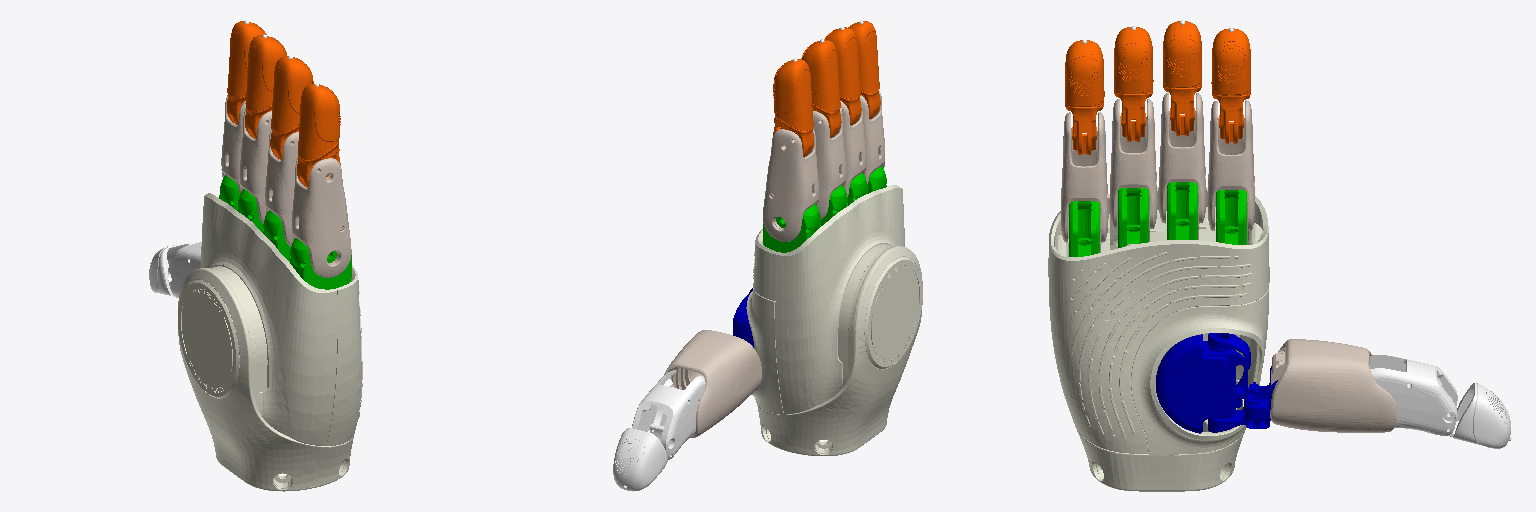
URDF robot description (omnihand):
<?xml version="1.0" ?>
<!-- =================================================================================== -->
<!-- |    This document was autogenerated by xacro from omnihand_right.xacro           | -->
<!-- |    EDITING THIS FILE BY HAND IS NOT RECOMMENDED                                 | -->
<!-- =================================================================================== -->
<robot name="omnihand">
  <!-- joint position value -->
  <material name="black">
    <color rgba="0.0 0.0 0.0 1.0"/>
  </material>
  <material name="blue">
    <color rgba="0.0 0.0 0.8 1.0"/>
  </material>
  <material name="green">
    <color rgba="0.0 0.8 0.0 1.0"/>
  </material>
  <material name="grey">
    <color rgba="0.2 0.2 0.2 1.0"/>
  </material>
  <material name="silver">
    <color rgba="0.9137254901960784 0.9137254901960784 0.8470588235294118 1.0"/>
  </material>
  <material name="orange">
    <color rgba="1.0 0.4235294117647059 0.0392156862745098 1.0"/>
  </material>
  <material name="brown">
    <color rgba="0.8705882352941177 0.8117647058823529 0.7647058823529411 1.0"/>
  </material>
  <material name="red">
    <color rgba="0.8 0.0 0.0 1.0"/>
  </material>
  <material name="white">
    <color rgba="1.0 1.0 1.0 1.0"/>
  </material>
  <link name="base_link">
    <visual>
      <origin rpy="0.0 0.0 0.0" xyz="0.0 0.0 0.0"/>
      <geometry>
        <box size="0.001 0.001 0.001"/>
      </geometry>
    </visual>
  </link>
  <joint name="R_palm_joint" type="fixed">
    <origin rpy="0.0 0.0 0.0" xyz="0.0 0.0 0.0"/>
    <parent link="base_link"/>
    <child link="R_palm"/>
  </joint>
  <link name="R_palm">
    <visual>
      <origin rpy="0 0 0" xyz="0 0 0"/>
      <geometry>
        <mesh filename="package://omnihand_description/meshes/r_palm.STL"/>
      </geometry>
      <material name="silver"/>
    </visual>
    <collision>
      <origin rpy="0 0 0" xyz="0 0 0.00725"/>
      <geometry>
        <cylinder length="0.0145" radius="0.028"/>
      </geometry>
    </collision>
    <collision>
      <origin rpy="0 0 0" xyz="0 0 0.057"/>
      <geometry>
        <box size="0.04 0.082 0.085"/>
      </geometry>
    </collision>
    <inertial>
      <origin rpy="0 0 0" xyz="-0.0071151 0.0044599 0.0455754"/>
      <mass value="0.2175"/>
      <inertia ixx="0.00023334" ixy="4.25e-06" ixz="-2.03e-05" iyy="0.00020584" iyz="9.89e-06" izz="0.00012494"/>
    </inertial>
  </link>
  <!-- thumb  -->
  <joint name="R_thumb_roll_joint" type="revolute">
    <origin rpy="0 0 0" xyz="0 0.018529 0.046851"/>
    <parent link="R_palm"/>
    <child link="R_thumb_roll"/>
    <axis xyz="1 0 0"/>
    <limit effort="0.419" lower="-0.17453292519943295" upper="0.8726646259971648" velocity="0.164"/>
  </joint>
  <link name="R_thumb_roll">
    <visual>
      <origin rpy="0 0 0" xyz="0 0 0"/>
      <geometry>
        <mesh filename="package://omnihand_description/meshes/r_thumb_roll.STL"/>
      </geometry>
      <material name="blue"/>
    </visual>
    <inertial>
      <origin rpy="0 0 0" xyz="0.018588 -0.0062386 0.0002106"/>
      <mass value="0.0179"/>
      <inertia ixx="3.64e-06" ixy="-5e-08" ixz="7e-08" iyy="2.68e-06" iyz="6e-08" izz="1.76e-06"/>
    </inertial>
  </link>
  <joint name="R_thumb_abad_joint" type="revolute">
    <origin rpy="0 0 0" xyz="0.020033 0.004292 0.00075"/>
    <parent link="R_thumb_roll"/>
    <child link="R_thumb_abad"/>
    <axis xyz="0 0 1"/>
    <limit effort="0.314" lower="-1.7453292519943295" upper="0" velocity="0.164"/>
  </joint>
  <link name="R_thumb_abad">
    <visual>
      <origin rpy="0 0 0" xyz="0 0 0"/>
      <geometry>
        <mesh filename="package://omnihand_description/meshes/thumb_abad.STL"/>
      </geometry>
      <material name="blue"/>
    </visual>
    <inertial>
      <origin rpy="0 0 0" xyz="0.0 0.0120925 -0.0060829"/>
      <mass value="0.0061"/>
      <inertia ixx="1.21e-06" ixy="0.0" ixz="-1e-08" iyy="9.8e-07" iyz="-3e-08" izz="6e-07"/>
    </inertial>
  </link>
  <joint name="R_thumb_mcp_joint" type="revolute">
    <origin rpy="0 0 0" xyz="0 0.0265 -0.0058001"/>
    <parent link="R_thumb_abad"/>
    <child link="R_thumb_mcp"/>
    <axis xyz="1 0 0"/>
    <limit effort="1.764" lower="0" upper="0.8552113334772214" velocity="0.308"/>
  </joint>
  <link name="R_thumb_mcp">
    <visual>
      <origin rpy="0 0 0" xyz="0 0 0"/>
      <geometry>
        <mesh filename="package://omnihand_description/meshes/thumb_mcp.STL"/>
      </geometry>
      <material name="brown"/>
    </visual>
    <collision>
      <origin rpy="0 0 0" xyz="0 0.0065 0.00237"/>
      <geometry>
        <box size="0.029 0.042 0.0325"/>
      </geometry>
    </collision>
    <inertial>
      <origin rpy="0 0 0" xyz="-1.45e-05 0.019045 0.0020161"/>
      <mass value="0.045"/>
      <inertia ixx="1.149e-05" ixy="0.0" ixz="1e-08" iyy="5.16e-06" iyz="-5.3e-07" izz="1.049e-05"/>
    </inertial>
  </link>
  <joint name="R_thumb_pip_joint" type="revolute">
    <origin rpy="0 0 0" xyz="0 0.036229 0.0026606"/>
    <parent link="R_thumb_mcp"/>
    <child link="R_thumb_pip"/>
    <axis xyz="1 0 0"/>
    <limit effort="1.764" lower="0" upper="1.1344640137963142" velocity="0.308"/>
    <mimic joint="R_thumb_mcp_joint" multiplier="1.33" offset="0"/>
  </joint>
  <link name="R_thumb_pip">
    <visual>
      <origin rpy="0 0 0" xyz="0 0 0"/>
      <geometry>
        <mesh filename="package://omnihand_description/meshes/thumb_pip.STL"/>
      </geometry>
      <material name="white"/>
    </visual>
    <collision>
      <origin rpy="-0.2 0 0" xyz="0 0.0116 -0.0032"/>
      <geometry>
        <box size="0.019 0.035 0.0225"/>
      </geometry>
    </collision>
    <inertial>
      <origin rpy="0 0 0" xyz="0.0004121 0.0066398 -0.0025675"/>
      <mass value="0.0284"/>
      <inertia ixx="4.53e-06" ixy="1.2e-07" ixz="1.3e-07" iyy="2.5e-06" iyz="-5.8e-07" izz="4e-06"/>
    </inertial>
  </link>
  <joint name="R_thumb_dip_joint" type="revolute">
    <origin rpy="0 0 0" xyz="0 0.026054 -0.008672"/>
    <parent link="R_thumb_pip"/>
    <child link="R_thumb_dip"/>
    <axis xyz="1 0 0"/>
    <limit effort="1.764" lower="0" upper="1.1344640137963142" velocity="0.308"/>
    <mimic joint="R_thumb_mcp_joint" multiplier="1.3" offset="0"/>
  </joint>
  <link name="R_thumb_dip">
    <visual>
      <origin rpy="0 0 0" xyz="0 0 0"/>
      <geometry>
        <mesh filename="package://omnihand_description/meshes/thumb_dip.STL"/>
      </geometry>
      <material name="white"/>
    </visual>
    <collision>
      <origin rpy="-1.8 0 0" xyz="0 0.0134 -0.0026"/>
      <geometry>
        <cylinder length="0.023" radius="0.011"/>
      </geometry>
    </collision>
    <inertial>
      <origin rpy="0 0 0" xyz="-0.0001343 0.0104003 -0.0042117"/>
      <mass value="0.011"/>
      <inertia ixx="1.1e-06" ixy="0.0" ixz="0.0" iyy="7.5e-07" iyz="-1.9e-07" izz="1.01e-06"/>
    </inertial>
  </link>
  <joint name="R_thumb_tip_joint" type="fixed">
    <origin rpy="0 0 0" xyz="0 0.02311 -0.01374"/>
    <parent link="R_thumb_dip"/>
    <child link="R_thumb_tip"/>
  </joint>
  <link name="R_thumb_tip">
    <visual>
      <origin rpy="0 0 0" xyz="0 0 0"/>
      <geometry>
        <sphere radius="1e-3"/>
      </geometry>
      <material name="white"/>
    </visual>
  </link>
  <!-- finger  -->
  <joint name="R_index_abad_joint" type="revolute">
    <origin rpy="0 0 0" xyz="-0.00069782 0.026958 0.094423"/>
    <parent link="R_palm"/>
    <child link="R_index_abad"/>
    <axis xyz="1 0 0"/>
    <limit effort="1.863" lower="-0.20943951023931953" upper="0" velocity="0.164"/>
  </joint>
  <link name="R_index_abad">
    <visual>
      <origin rpy="0 0 0" xyz="0 0 0"/>
      <geometry>
        <mesh filename="package://omnihand_description/meshes/finger_abad.STL"/>
      </geometry>
      <material name="green"/>
    </visual>
    <inertial>
      <origin rpy="0 0 0" xyz="-0.0009337 -2.37e-05 0.0063625"/>
      <mass value="0.0349"/>
      <inertia ixx="6.74e-06" ixy="0.0" ixz="-3.3e-07" iyy="7.81e-06" iyz="0.0" izz="2.37e-06"/>
    </inertial>
  </link>
  
        y 
  <joint name="R_index_pip_joint" type="revolute">
    <origin rpy="0 0 0" xyz="0.001025 0 0.017575"/>
    <parent link="R_index_abad"/>
    <child link="R_index_pip"/>
    <axis xyz="0 1 0"/>
    <limit effort="1.764" lower="0" upper="1.5707963267948966" velocity="0.308"/>
  </joint>
  <link name="R_index_pip">
    <visual>
      <origin rpy="0 0 0" xyz="0 0 0"/>
      <geometry>
        <mesh filename="package://omnihand_description/meshes/finger_pip.STL"/>
      </geometry>
      <material name="brown"/>
    </visual>
    <collision>
      <origin rpy="0 0 0" xyz="0 0 0.014"/>
      <geometry>
        <cylinder length="0.044" radius="0.01"/>
      </geometry>
    </collision>
    <inertial>
      <origin rpy="0 0 0" xyz="-0.0009312 -9.8e-06 0.0120489"/>
      <mass value="0.0125"/>
      <inertia ixx="3.16e-06" ixy="0.0" ixz="-3.5e-07" iyy="3.23e-06" iyz="0.0" izz="6.3e-07"/>
    </inertial>
  </link>
  <joint name="R_index_dip_joint" type="revolute">
    <origin rpy="0 0 0" xyz=" -0.0014266  0 0.036"/>
    <parent link="R_index_pip"/>
    <child link="R_index_dip"/>
    <axis xyz="0 1 0"/>
    <limit effort="1.764" lower="0" upper="1.8325957145940461" velocity="0.308"/>
    <mimic joint="R_index_pip_joint" multiplier="1.097" offset="0"/>
  </joint>
  <link name="R_index_dip">
    <visual>
      <origin rpy="0 0 0" xyz="0 0 0"/>
      <geometry>
        <mesh filename="package://omnihand_description/meshes/finger_dip.STL"/>
      </geometry>
      <material name="orange"/>
    </visual>
    <collision>
      <origin rpy="0 0 0" xyz="0 0 0.018"/>
      <geometry>
        <cylinder length="0.034" radius="0.007"/>
      </geometry>
    </collision>
    <inertial>
      <origin rpy="0 0 0" xyz="0.0002904 4.82e-05 0.0167403"/>
      <mass value="0.0047"/>
      <inertia ixx="7.6e-07" ixy="0.0" ixz="2e-08" iyy="7.7e-07" iyz="0.0" izz="1.6e-07"/>
    </inertial>
  </link>
  <joint name="R_index_tip_joint" type="fixed">
    <origin rpy="0 0 0" xyz="-0.00131 0 0.03841"/>
    <parent link="R_index_dip"/>
    <child link="R_index_tip"/>
  </joint>
  <link name="R_index_tip">
    <visual>
      <origin rpy="0 0 0" xyz="0 0 0"/>
      <geometry>
        <sphere radius="1e-3"/>
      </geometry>
      <material name="white"/>
    </visual>
  </link>
  <joint name="R_middle_abad_joint" type="fixed">
    <origin rpy="0 0 0" xyz="-0.0031978 0.0079501 0.096423"/>
    <parent link="R_palm"/>
    <child link="R_middle_abad"/>
  </joint>
  <link name="R_middle_abad">
    <visual>
      <origin rpy="0 0 0" xyz="0 0 0"/>
      <geometry>
        <mesh filename="package://omnihand_description/meshes/finger_abad.STL"/>
      </geometry>
      <material name="green"/>
    </visual>
    <inertial>
      <origin rpy="0 0 0" xyz="-0.0009337 -2.37e-05 0.0063625"/>
      <mass value="0.0349"/>
      <inertia ixx="6.74e-06" ixy="0.0" ixz="-3.3e-07" iyy="7.81e-06" iyz="0.0" izz="2.37e-06"/>
    </inertial>
  </link>
  
        y 
  <joint name="R_middle_pip_joint" type="revolute">
    <origin rpy="0 0 0" xyz="0.001025 0 0.017575"/>
    <parent link="R_middle_abad"/>
    <child link="R_middle_pip"/>
    <axis xyz="0 1 0"/>
    <limit effort="1.764" lower="0" upper="1.5707963267948966" velocity="0.308"/>
  </joint>
  <link name="R_middle_pip">
    <visual>
      <origin rpy="0 0 0" xyz="0 0 0"/>
      <geometry>
        <mesh filename="package://omnihand_description/meshes/finger_pip.STL"/>
      </geometry>
      <material name="brown"/>
    </visual>
    <collision>
      <origin rpy="0 0 0" xyz="0 0 0.014"/>
      <geometry>
        <cylinder length="0.044" radius="0.01"/>
      </geometry>
    </collision>
    <inertial>
      <origin rpy="0 0 0" xyz="-0.0009312 -9.8e-06 0.0120489"/>
      <mass value="0.0125"/>
      <inertia ixx="3.16e-06" ixy="0.0" ixz="-3.5e-07" iyy="3.23e-06" iyz="0.0" izz="6.3e-07"/>
    </inertial>
  </link>
  <joint name="R_middle_dip_joint" type="revolute">
    <origin rpy="0 0 0" xyz=" -0.0014266  0 0.036"/>
    <parent link="R_middle_pip"/>
    <child link="R_middle_dip"/>
    <axis xyz="0 1 0"/>
    <limit effort="1.764" lower="0" upper="1.8325957145940461" velocity="0.308"/>
    <mimic joint="R_middle_pip_joint" multiplier="1.097" offset="0"/>
  </joint>
  <link name="R_middle_dip">
    <visual>
      <origin rpy="0 0 0" xyz="0 0 0"/>
      <geometry>
        <mesh filename="package://omnihand_description/meshes/finger_dip.STL"/>
      </geometry>
      <material name="orange"/>
    </visual>
    <collision>
      <origin rpy="0 0 0" xyz="0 0 0.018"/>
      <geometry>
        <cylinder length="0.034" radius="0.007"/>
      </geometry>
    </collision>
    <inertial>
      <origin rpy="0 0 0" xyz="0.0002904 4.82e-05 0.0167403"/>
      <mass value="0.0047"/>
      <inertia ixx="7.6e-07" ixy="0.0" ixz="2e-08" iyy="7.7e-07" iyz="0.0" izz="1.6e-07"/>
    </inertial>
  </link>
  <joint name="R_middle_tip_joint" type="fixed">
    <origin rpy="0 0 0" xyz="-0.00131 0 0.03841"/>
    <parent link="R_middle_dip"/>
    <child link="R_middle_tip"/>
  </joint>
  <link name="R_middle_tip">
    <visual>
      <origin rpy="0 0 0" xyz="0 0 0"/>
      <geometry>
        <sphere radius="1e-3"/>
      </geometry>
      <material name="white"/>
    </visual>
  </link>
  <joint name="R_ring_abad_joint" type="revolute">
    <origin rpy="0 0 0" xyz="-0.0021978 -0.01105 0.094423"/>
    <parent link="R_palm"/>
    <child link="R_ring_abad"/>
    <axis xyz="1 0 0"/>
    <limit effort="2.766" lower="0" upper="0.17453292519943295" velocity="0.164"/>
  </joint>
  <link name="R_ring_abad">
    <visual>
      <origin rpy="0 0 0" xyz="0 0 0"/>
      <geometry>
        <mesh filename="package://omnihand_description/meshes/finger_abad.STL"/>
      </geometry>
      <material name="green"/>
    </visual>
    <inertial>
      <origin rpy="0 0 0" xyz="-0.0009337 -2.37e-05 0.0063625"/>
      <mass value="0.0349"/>
      <inertia ixx="6.74e-06" ixy="0.0" ixz="-3.3e-07" iyy="7.81e-06" iyz="0.0" izz="2.37e-06"/>
    </inertial>
  </link>
  
        y 
  <joint name="R_ring_pip_joint" type="revolute">
    <origin rpy="0 0 0" xyz="0.001025 0 0.017575"/>
    <parent link="R_ring_abad"/>
    <child link="R_ring_pip"/>
    <axis xyz="0 1 0"/>
    <limit effort="1.764" lower="0" upper="1.5707963267948966" velocity="0.308"/>
  </joint>
  <link name="R_ring_pip">
    <visual>
      <origin rpy="0 0 0" xyz="0 0 0"/>
      <geometry>
        <mesh filename="package://omnihand_description/meshes/finger_pip.STL"/>
      </geometry>
      <material name="brown"/>
    </visual>
    <collision>
      <origin rpy="0 0 0" xyz="0 0 0.014"/>
      <geometry>
        <cylinder length="0.044" radius="0.01"/>
      </geometry>
    </collision>
    <inertial>
      <origin rpy="0 0 0" xyz="-0.0009312 -9.8e-06 0.0120489"/>
      <mass value="0.0125"/>
      <inertia ixx="3.16e-06" ixy="0.0" ixz="-3.5e-07" iyy="3.23e-06" iyz="0.0" izz="6.3e-07"/>
    </inertial>
  </link>
  <joint name="R_ring_dip_joint" type="revolute">
    <origin rpy="0 0 0" xyz=" -0.0014266  0 0.036"/>
    <parent link="R_ring_pip"/>
    <child link="R_ring_dip"/>
    <axis xyz="0 1 0"/>
    <limit effort="1.764" lower="0" upper="1.8325957145940461" velocity="0.308"/>
    <mimic joint="R_ring_pip_joint" multiplier="1.097" offset="0"/>
  </joint>
  <link name="R_ring_dip">
    <visual>
      <origin rpy="0 0 0" xyz="0 0 0"/>
      <geometry>
        <mesh filename="package://omnihand_description/meshes/finger_dip.STL"/>
      </geometry>
      <material name="orange"/>
    </visual>
    <collision>
      <origin rpy="0 0 0" xyz="0 0 0.018"/>
      <geometry>
        <cylinder length="0.034" radius="0.007"/>
      </geometry>
    </collision>
    <inertial>
      <origin rpy="0 0 0" xyz="0.0002904 4.82e-05 0.0167403"/>
      <mass value="0.0047"/>
      <inertia ixx="7.6e-07" ixy="0.0" ixz="2e-08" iyy="7.7e-07" iyz="0.0" izz="1.6e-07"/>
    </inertial>
  </link>
  <joint name="R_ring_tip_joint" type="fixed">
    <origin rpy="0 0 0" xyz="-0.00131 0 0.03841"/>
    <parent link="R_ring_dip"/>
    <child link="R_ring_tip"/>
  </joint>
  <link name="R_ring_tip">
    <visual>
      <origin rpy="0 0 0" xyz="0 0 0"/>
      <geometry>
        <sphere radius="1e-3"/>
      </geometry>
      <material name="white"/>
    </visual>
  </link>
  <joint name="R_pinky_abad_joint" type="revolute">
    <origin rpy="0 0 0" xyz="-0.00069782 -0.03005 0.089423"/>
    <parent link="R_palm"/>
    <child link="R_pinky_abad"/>
    <axis xyz="1 0 0"/>
    <limit effort="3.393" lower="0" upper="0.20943951023931953" velocity="0.164"/>
  </joint>
  <link name="R_pinky_abad">
    <visual>
      <origin rpy="0 0 0" xyz="0 0 0"/>
      <geometry>
        <mesh filename="package://omnihand_description/meshes/finger_abad.STL"/>
      </geometry>
      <material name="green"/>
    </visual>
    <inertial>
      <origin rpy="0 0 0" xyz="-0.0009337 -2.37e-05 0.0063625"/>
      <mass value="0.0349"/>
      <inertia ixx="6.74e-06" ixy="0.0" ixz="-3.3e-07" iyy="7.81e-06" iyz="0.0" izz="2.37e-06"/>
    </inertial>
  </link>
  
        y 
  <joint name="R_pinky_pip_joint" type="revolute">
    <origin rpy="0 0 0" xyz="0.001025 0 0.017575"/>
    <parent link="R_pinky_abad"/>
    <child link="R_pinky_pip"/>
    <axis xyz="0 1 0"/>
    <limit effort="1.764" lower="0" upper="1.5707963267948966" velocity="0.308"/>
  </joint>
  <link name="R_pinky_pip">
    <visual>
      <origin rpy="0 0 0" xyz="0 0 0"/>
      <geometry>
        <mesh filename="package://omnihand_description/meshes/finger_pip.STL"/>
      </geometry>
      <material name="brown"/>
    </visual>
    <collision>
      <origin rpy="0 0 0" xyz="0 0 0.014"/>
      <geometry>
        <cylinder length="0.044" radius="0.01"/>
      </geometry>
    </collision>
    <inertial>
      <origin rpy="0 0 0" xyz="-0.0009312 -9.8e-06 0.0120489"/>
      <mass value="0.0125"/>
      <inertia ixx="3.16e-06" ixy="0.0" ixz="-3.5e-07" iyy="3.23e-06" iyz="0.0" izz="6.3e-07"/>
    </inertial>
  </link>
  <joint name="R_pinky_dip_joint" type="revolute">
    <origin rpy="0 0 0" xyz=" -0.0014266  0 0.036"/>
    <parent link="R_pinky_pip"/>
    <child link="R_pinky_dip"/>
    <axis xyz="0 1 0"/>
    <limit effort="1.764" lower="0" upper="1.8325957145940461" velocity="0.308"/>
    <mimic joint="R_pinky_pip_joint" multiplier="1.097" offset="0"/>
  </joint>
  <link name="R_pinky_dip">
    <visual>
      <origin rpy="0 0 0" xyz="0 0 0"/>
      <geometry>
        <mesh filename="package://omnihand_description/meshes/finger_dip.STL"/>
      </geometry>
      <material name="orange"/>
    </visual>
    <collision>
      <origin rpy="0 0 0" xyz="0 0 0.018"/>
      <geometry>
        <cylinder length="0.034" radius="0.007"/>
      </geometry>
    </collision>
    <inertial>
      <origin rpy="0 0 0" xyz="0.0002904 4.82e-05 0.0167403"/>
      <mass value="0.0047"/>
      <inertia ixx="7.6e-07" ixy="0.0" ixz="2e-08" iyy="7.7e-07" iyz="0.0" izz="1.6e-07"/>
    </inertial>
  </link>
  <joint name="R_pinky_tip_joint" type="fixed">
    <origin rpy="0 0 0" xyz="-0.00131 0 0.03841"/>
    <parent link="R_pinky_dip"/>
    <child link="R_pinky_tip"/>
  </joint>
  <link name="R_pinky_tip">
    <visual>
      <origin rpy="0 0 0" xyz="0 0 0"/>
      <geometry>
        <sphere radius="1e-3"/>
      </geometry>
      <material name="white"/>
    </visual>
  </link>
</robot>

--- Render facts (derived) ---
The picture shows the robot from 3 angles, left to right: view 1: azimuth 30°, elevation 25°; view 2: azimuth 150°, elevation 25°; view 3: azimuth 270°, elevation 25°; orthographic projection.
Robot: omnihand — 24 links, 23 joints (16 revolute, 7 fixed); root link base_link; default pose: all joints at 0.
Visible links, largest first — view 1: R_palm, R_pinky_pip, R_pinky_dip, R_ring_dip, R_middle_dip, R_ring_pip, R_middle_pip, R_index_dip, R_pinky_abad, R_index_pip, R_thumb_pip, R_thumb_dip (+2 smaller); view 2: R_palm, R_thumb_mcp, R_index_pip, R_thumb_pip, R_index_dip, R_thumb_dip, R_middle_dip, R_middle_pip, R_ring_dip, R_pinky_dip, R_ring_pip, R_pinky_pip (+2 smaller); view 3: R_palm, R_thumb_mcp, R_thumb_roll, R_thumb_pip, R_ring_dip, R_index_dip, R_pinky_dip, R_middle_dip, R_index_pip, R_middle_pip, R_pinky_pip, R_ring_pip (+6 smaller).
Link boxes in pixels (x1,y1,x2,y2): R_palm: [178, 193, 362, 491]; R_pinky_pip: [292, 158, 351, 277]; R_pinky_dip: [297, 84, 340, 187]; R_ring_dip: [270, 56, 313, 160]; R_middle_dip: [245, 35, 286, 138]; R_ring_pip: [265, 130, 298, 246]; R_middle_pip: [240, 109, 271, 223]; R_index_dip: [227, 21, 266, 124]; R_pinky_abad: [289, 238, 351, 289]; R_index_pip: [221, 95, 245, 193]; R_thumb_pip: [168, 242, 201, 297]; R_thumb_dip: [149, 242, 192, 296]; R_palm: [746, 185, 922, 455]; R_thumb_mcp: [664, 330, 761, 437]; R_index_pip: [763, 129, 818, 241]; R_thumb_pip: [632, 370, 705, 459]; R_index_dip: [773, 59, 813, 156]; R_thumb_dip: [613, 424, 667, 491]; R_middle_dip: [801, 40, 841, 137]; R_middle_pip: [813, 110, 845, 220]; R_ring_dip: [824, 27, 861, 124]; R_pinky_dip: [848, 21, 880, 118]; R_ring_pip: [840, 97, 865, 196]; R_pinky_pip: [860, 91, 884, 183]; R_palm: [1048, 187, 1269, 491]; R_thumb_mcp: [1270, 339, 1396, 432]; R_thumb_roll: [1156, 334, 1243, 433]; R_thumb_pip: [1370, 355, 1457, 435]; R_ring_dip: [1114, 27, 1153, 141]; R_index_dip: [1211, 28, 1250, 143]; R_pinky_dip: [1065, 40, 1104, 154]; R_middle_dip: [1163, 21, 1201, 135]; R_index_pip: [1207, 100, 1254, 230]; R_middle_pip: [1158, 93, 1206, 223]; R_pinky_pip: [1061, 112, 1108, 242]; R_ring_pip: [1110, 99, 1157, 228].
Size in the robot's own frame: 0.0719 by 0.1798 by 0.1899 metres.
18 mesh visuals loaded from 9 distinct referenced files (9 binary STL).